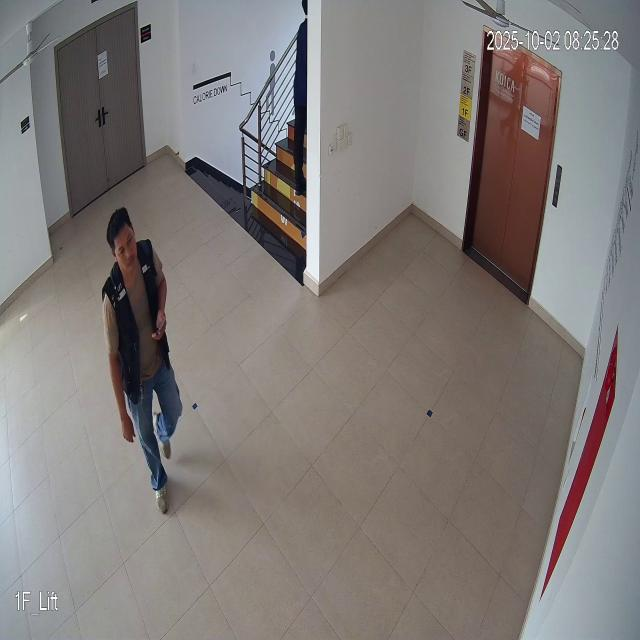face: (104, 198, 140, 272)
